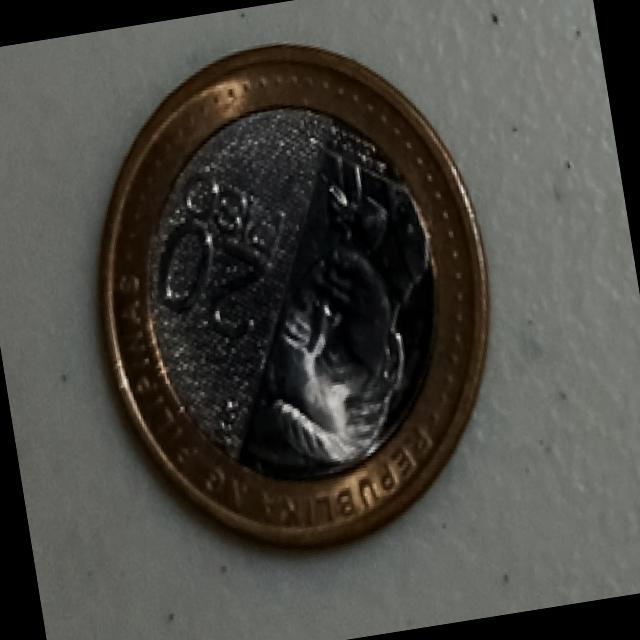20_peso: (99, 44, 487, 544)
